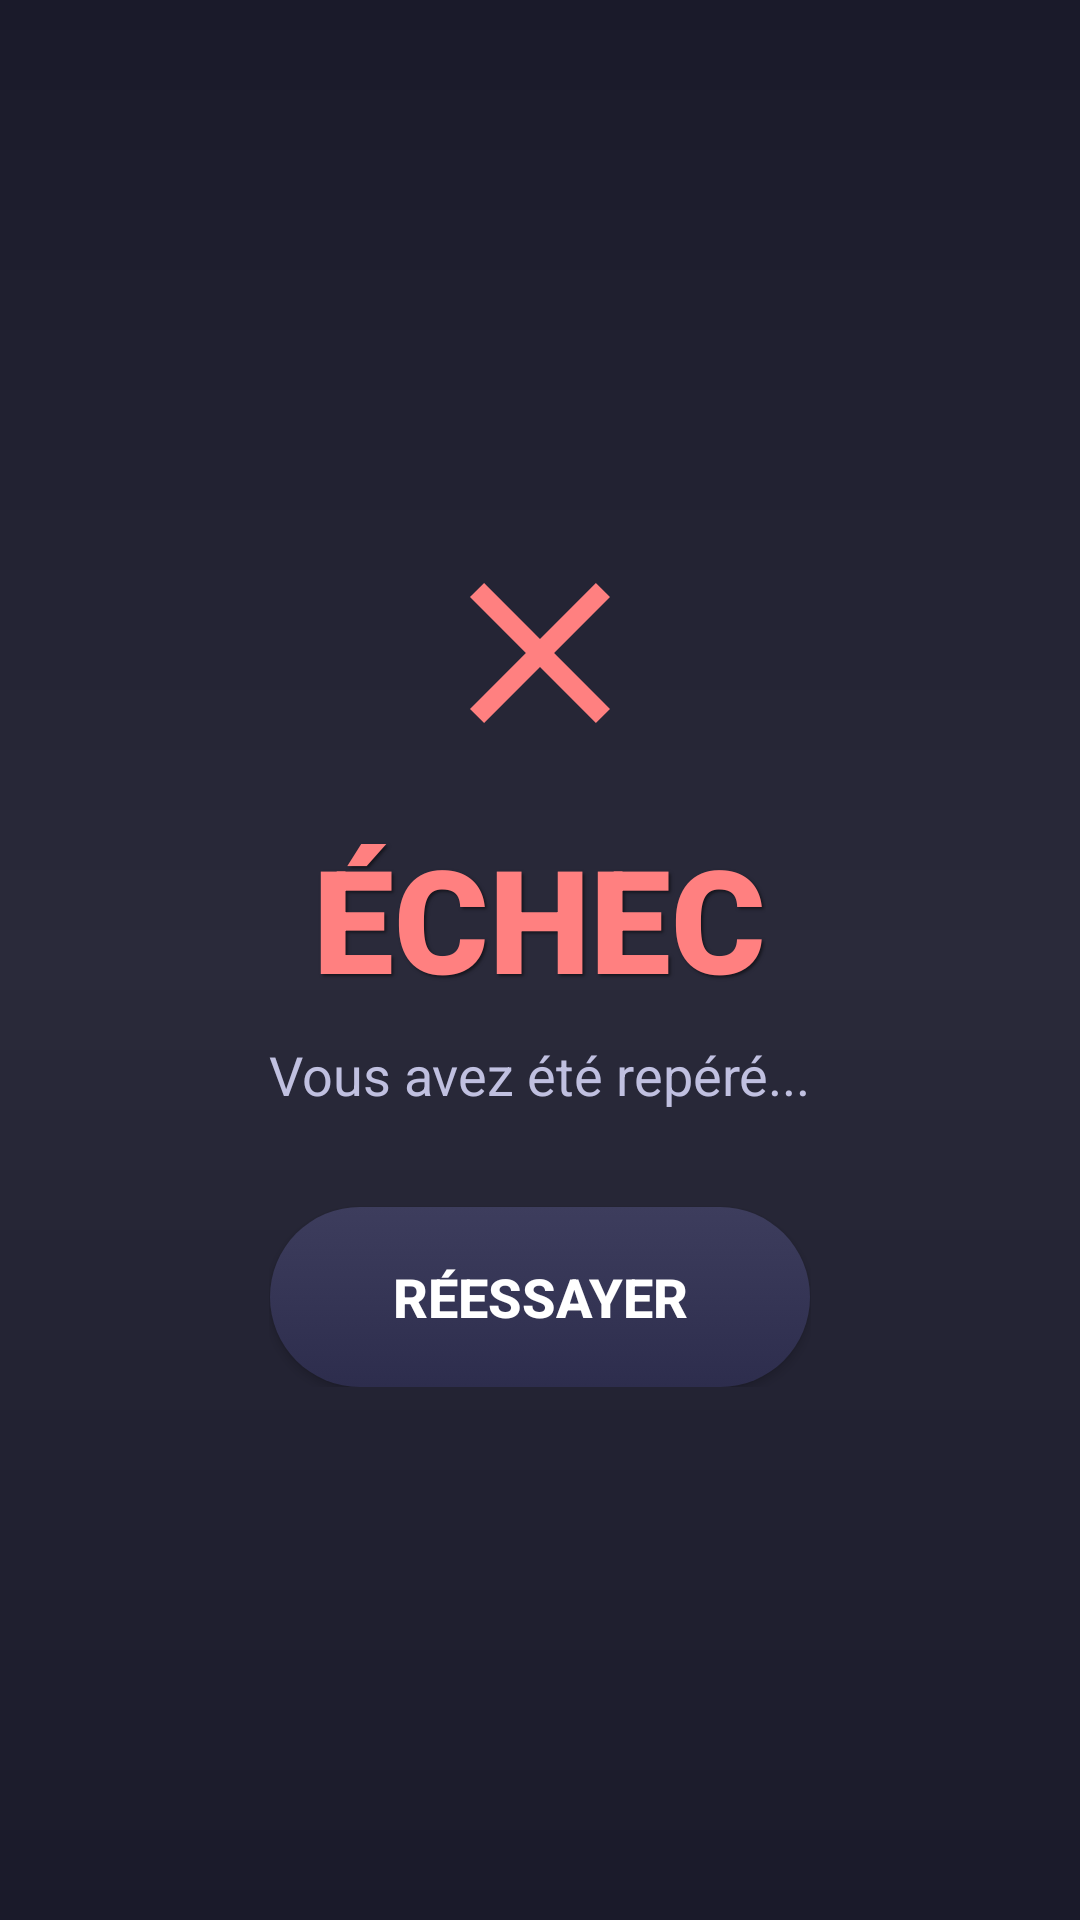

Locate icon controls on the screen. Image size 1080×1920, boxes as (x1, y1, x2, y2).
game over: (470, 583, 610, 723)
